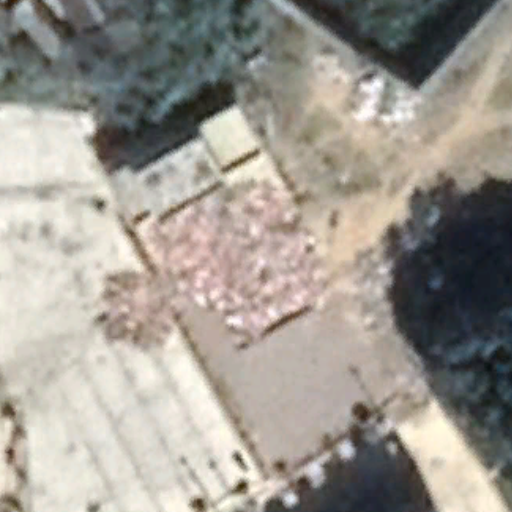msw: (150, 175, 326, 337)
